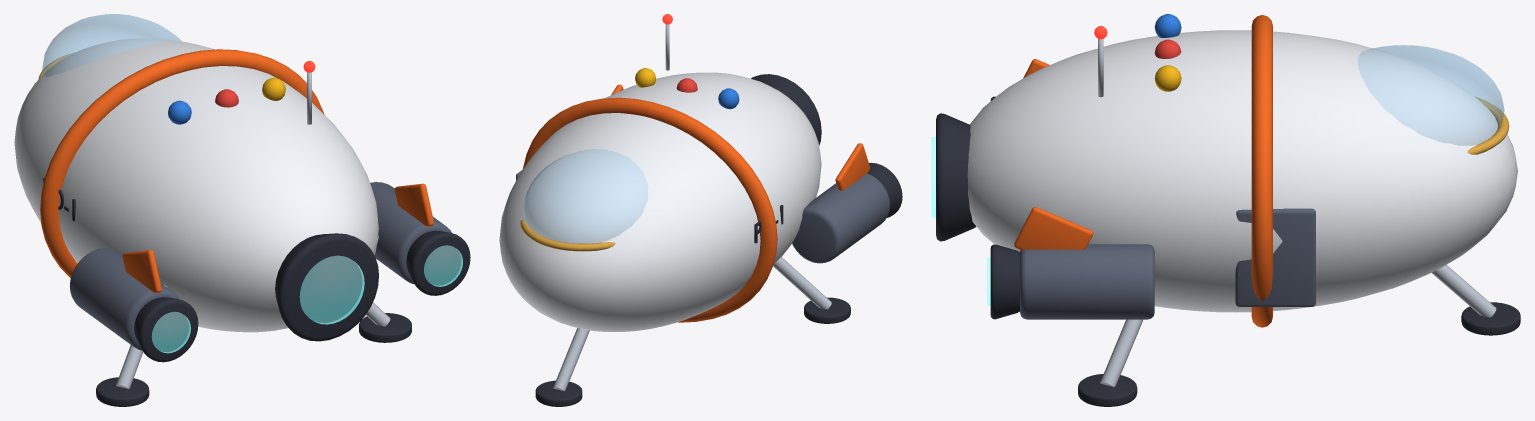
File: Ship_Lander.glb
3 views of the same model, side by side, from view 1: azimuth 30°, elevation 25°; view 2: azimuth 150°, elevation 25°; view 3: azimuth 270°, elevation 25° (orthographic). The views are drawn at different scales.
Visible parts, largest first — view 1: Ship_Lander.Hull, Ship_Lander.MainNozzle, Ship_Lander.Stripe, Ship_Lander.Engine.L, Ship_Lander.Cockpit, Ship_Lander.MainFlame, Ship_Lander.Nozzle.R, Ship_Lander.Nozzle.L, Ship_Lander.Engine.R, Ship_Lander.Flame.R, Ship_Lander.Flame.L, Ship_Lander.Pad.001 (+6 smaller); view 2: Ship_Lander.Hull, Ship_Lander.Cockpit, Ship_Lander.Stripe, Ship_Lander.Engine.L, Ship_Lander.MainNozzle, Ship_Lander.Pad, Ship_Lander.Leg.001, Ship_Lander.Fin.L, Ship_Lander.Pad.001, Ship_Lander.Leg, Ship_Lander.Nozzle.L, Ship_Lander.CockpitRim; view 3: Ship_Lander.Hull, Ship_Lander.Cockpit, Ship_Lander.Engine.R, Ship_Lander.Stripe, Ship_Lander.Hatch, Ship_Lander.MainNozzle, Ship_Lander.Fin.R, Ship_Lander.Nozzle.R, Ship_Lander.Pad.002, Ship_Lander.Pad, Ship_Lander.Leg.002, Ship_Lander.Leg (+3 smaller).
Part boxes in pixels (x1=…): Ship_Lander.Hull: x1=14, y1=38, x2=378, y2=332; Ship_Lander.MainNozzle: x1=275, y1=233, x2=378, y2=341; Ship_Lander.Stripe: x1=40, y1=49, x2=324, y2=278; Ship_Lander.Engine.L: x1=70, y1=248, x2=179, y2=350; Ship_Lander.Cockpit: x1=42, y1=14, x2=181, y2=76; Ship_Lander.MainFlame: x1=299, y1=255, x2=364, y2=324; Ship_Lander.Nozzle.R: x1=406, y1=230, x2=470, y2=295; Ship_Lander.Nozzle.L: x1=134, y1=297, x2=198, y2=362; Ship_Lander.Engine.R: x1=370, y1=182, x2=451, y2=284; Ship_Lander.Flame.R: x1=424, y1=245, x2=462, y2=286; Ship_Lander.Flame.L: x1=152, y1=311, x2=190, y2=353; Ship_Lander.Pad.001: x1=96, y1=377, x2=149, y2=406; Ship_Lander.Hull: x1=499, y1=72, x2=821, y2=331; Ship_Lander.Cockpit: x1=524, y1=149, x2=647, y2=243; Ship_Lander.Stripe: x1=523, y1=97, x2=777, y2=322; Ship_Lander.Engine.L: x1=792, y1=173, x2=890, y2=263; Ship_Lander.MainNozzle: x1=751, y1=74, x2=821, y2=145; Ship_Lander.Pad: x1=535, y1=380, x2=582, y2=406; Ship_Lander.Leg.001: x1=773, y1=257, x2=831, y2=309; Ship_Lander.Fin.L: x1=835, y1=143, x2=870, y2=190; Ship_Lander.Pad.001: x1=804, y1=297, x2=850, y2=323; Ship_Lander.Leg: x1=553, y1=328, x2=589, y2=391; Ship_Lander.Nozzle.L: x1=867, y1=162, x2=902, y2=217; Ship_Lander.CockpitRim: x1=520, y1=220, x2=615, y2=251; Ship_Lander.Hull: x1=967, y1=30, x2=1517, y2=312; Ship_Lander.Cockpit: x1=1358, y1=45, x2=1504, y2=145; Ship_Lander.Engine.R: x1=1020, y1=244, x2=1154, y2=319; Ship_Lander.Stripe: x1=1251, y1=15, x2=1272, y2=327; Ship_Lander.Hatch: x1=1235, y1=208, x2=1315, y2=306; Ship_Lander.MainNozzle: x1=936, y1=113, x2=976, y2=241; Ship_Lander.Fin.R: x1=1014, y1=207, x2=1093, y2=250; Ship_Lander.Nozzle.R: x1=990, y1=244, x2=1019, y2=319; Ship_Lander.Pad.002: x1=1078, y1=374, x2=1137, y2=406; Ship_Lander.Pad: x1=1461, y1=302, x2=1520, y2=335; Ship_Lander.Leg.002: x1=1100, y1=319, x2=1142, y2=387; Ship_Lander.Leg: x1=1431, y1=265, x2=1496, y2=317.
Bounding box in the file's own units: 3.16 × 2.67 × 4.38.
